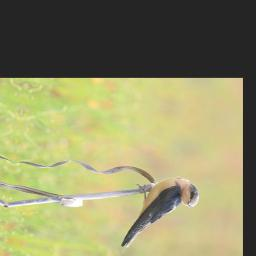Swallow: (116, 166, 206, 256)
